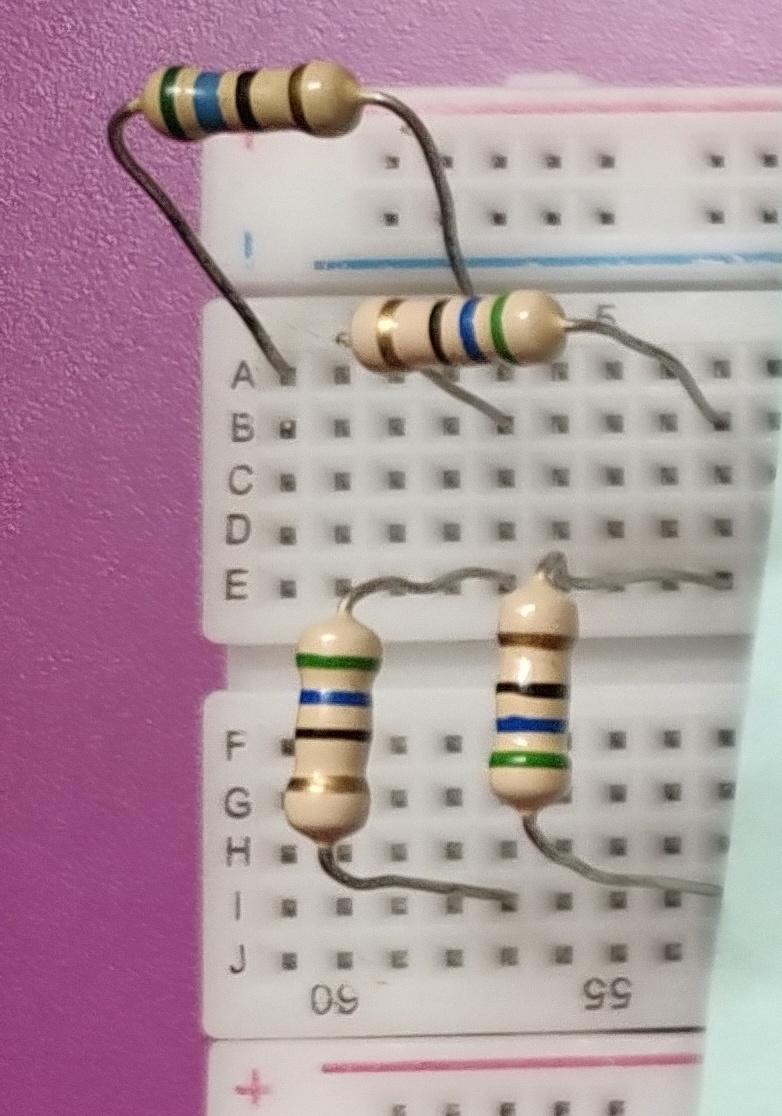resistor: (475, 560, 590, 820), (328, 275, 585, 380), (275, 597, 380, 842), (135, 52, 365, 150)
